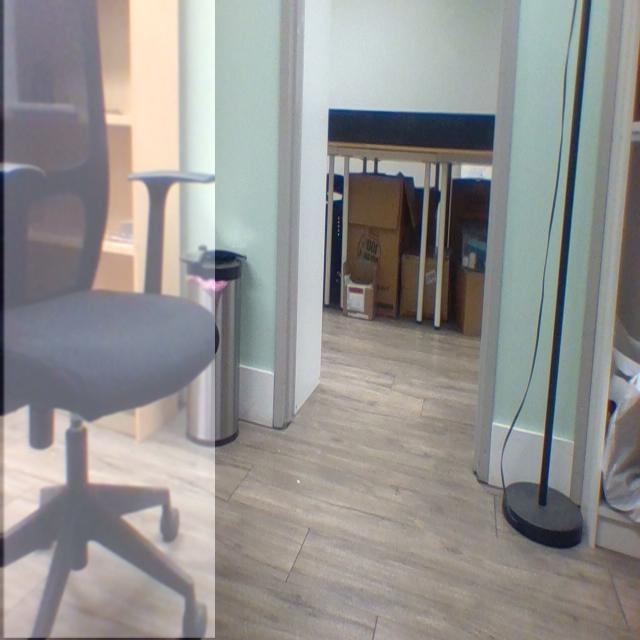chair: (0, 0, 219, 640)
